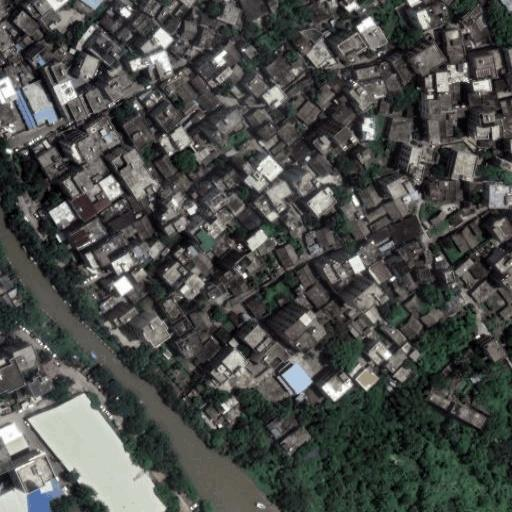building: (29, 393, 170, 512), (113, 147, 159, 199), (19, 470, 71, 512), (64, 157, 111, 199), (269, 304, 312, 346), (292, 329, 334, 372), (23, 80, 59, 129), (6, 445, 48, 486), (53, 79, 88, 124), (86, 116, 123, 154), (129, 50, 172, 81), (224, 129, 261, 164), (123, 113, 154, 151), (279, 362, 313, 396), (411, 43, 446, 75), (87, 33, 122, 65), (306, 186, 339, 219), (15, 362, 47, 396), (450, 401, 488, 429), (389, 215, 423, 246), (14, 88, 39, 129), (71, 135, 103, 167), (321, 369, 354, 400), (189, 220, 220, 253), (158, 126, 191, 157), (68, 192, 99, 225), (71, 219, 105, 249), (356, 16, 386, 49), (341, 275, 372, 306), (322, 260, 352, 292), (427, 72, 451, 112), (277, 115, 307, 146), (259, 342, 291, 371), (158, 193, 187, 225), (196, 44, 225, 76), (6, 342, 36, 372), (266, 410, 297, 439), (142, 318, 171, 348), (282, 72, 312, 101), (0, 352, 21, 393), (377, 61, 402, 95), (336, 33, 366, 61), (451, 151, 478, 182), (235, 204, 263, 233), (154, 155, 182, 184), (38, 149, 66, 178), (436, 109, 460, 142), (351, 361, 379, 389), (244, 324, 272, 352), (172, 245, 202, 271), (267, 181, 292, 212), (357, 241, 384, 269), (223, 348, 250, 376), (293, 170, 321, 197), (287, 137, 314, 165), (160, 71, 190, 96), (257, 156, 284, 183), (190, 134, 217, 161), (85, 246, 112, 273), (445, 30, 467, 63), (397, 238, 428, 261), (230, 284, 258, 309), (109, 63, 134, 91), (392, 54, 415, 84), (306, 42, 332, 68), (387, 175, 414, 200), (216, 109, 243, 134), (44, 60, 69, 87), (419, 6, 447, 30), (103, 199, 132, 222), (429, 180, 459, 202), (281, 428, 307, 453), (295, 263, 320, 289), (179, 333, 205, 358), (179, 273, 204, 299), (215, 169, 241, 194), (296, 101, 322, 126), (50, 201, 75, 227), (306, 0, 331, 26), (80, 89, 105, 115), (471, 277, 498, 301), (469, 240, 496, 264), (461, 223, 486, 248), (254, 197, 279, 222), (98, 176, 123, 201), (156, 106, 181, 131), (141, 85, 166, 110), (267, 56, 292, 81), (14, 11, 39, 36), (317, 301, 343, 325), (160, 296, 184, 322), (428, 389, 455, 412), (384, 198, 409, 222), (358, 185, 382, 210), (419, 307, 444, 331), (306, 282, 330, 307), (275, 243, 299, 268), (309, 153, 333, 178), (444, 62, 470, 85), (294, 444, 321, 466), (163, 262, 187, 286), (333, 104, 357, 128), (30, 47, 55, 70), (369, 225, 393, 248), (443, 293, 467, 316), (193, 254, 217, 277), (176, 81, 199, 105), (79, 55, 101, 80), (491, 217, 512, 243), (101, 233, 127, 254), (368, 341, 391, 364), (223, 194, 246, 217), (169, 172, 192, 195), (263, 85, 286, 108), (312, 134, 335, 157), (133, 216, 156, 239), (369, 262, 391, 286), (245, 170, 269, 192), (198, 89, 220, 113), (5, 63, 27, 87), (38, 358, 59, 383), (299, 28, 325, 48), (206, 190, 229, 212), (314, 88, 337, 110), (390, 118, 412, 141), (334, 128, 357, 150), (1, 45, 24, 67), (485, 338, 506, 362), (349, 88, 370, 112), (199, 339, 221, 361), (234, 368, 256, 390), (133, 14, 155, 36), (316, 226, 337, 249), (475, 56, 496, 79), (245, 229, 269, 249), (165, 216, 189, 236), (223, 120, 247, 140), (115, 307, 139, 327), (104, 78, 124, 102), (100, 14, 125, 33), (75, 24, 93, 50), (349, 220, 371, 241), (213, 239, 234, 261), (325, 74, 347, 95), (281, 210, 302, 232), (209, 67, 231, 88), (369, 213, 392, 233), (263, 267, 286, 287), (196, 25, 216, 48), (246, 251, 265, 275), (496, 250, 512, 278), (27, 0, 53, 17), (490, 186, 511, 207), (227, 275, 248, 296), (247, 296, 268, 317), (249, 77, 270, 98), (110, 275, 131, 296), (384, 351, 406, 371), (114, 214, 133, 237), (356, 0, 383, 16), (400, 144, 415, 172), (469, 260, 489, 281), (401, 317, 421, 338), (190, 75, 210, 96), (464, 4, 485, 24), (364, 81, 385, 101), (222, 5, 242, 26), (41, 10, 61, 31), (256, 238, 278, 257), (192, 180, 214, 199), (491, 48, 507, 74), (472, 398, 496, 415), (405, 295, 425, 315), (246, 109, 266, 129), (142, 34, 162, 54), (154, 27, 174, 47), (481, 92, 500, 113), (413, 141, 434, 160), (454, 258, 475, 277), (452, 233, 471, 254), (447, 82, 466, 103), (53, 48, 74, 67), (0, 103, 16, 127), (189, 311, 208, 331), (208, 217, 227, 237), (467, 23, 486, 43), (112, 255, 132, 274), (100, 296, 120, 315), (294, 34, 313, 54), (394, 364, 413, 383), (354, 312, 373, 331), (187, 389, 206, 408), (230, 82, 249, 101), (367, 206, 387, 224), (219, 395, 239, 413), (128, 283, 148, 301), (495, 77, 512, 98), (450, 208, 469, 226), (402, 343, 420, 362), (348, 255, 366, 274), (233, 255, 252, 273), (174, 318, 193, 336), (258, 124, 277, 142), (173, 39, 191, 58), (131, 196, 152, 212), (213, 365, 231, 383), (216, 207, 234, 225), (148, 241, 166, 259), (388, 329, 407, 346), (189, 265, 208, 282), (206, 284, 226, 300), (182, 20, 198, 40), (93, 196, 111, 213), (365, 306, 382, 324), (358, 66, 379, 80), (341, 200, 358, 217), (428, 121, 441, 143), (347, 321, 363, 338), (206, 405, 222, 422), (229, 65, 245, 82), (395, 260, 411, 276), (212, 130, 228, 146), (275, 152, 291, 168), (279, 69, 295, 85), (16, 35, 32, 51), (10, 385, 26, 401), (158, 184, 175, 199), (474, 79, 492, 93), (363, 118, 374, 140), (402, 189, 418, 204), (461, 199, 476, 215), (431, 209, 447, 224), (192, 352, 208, 367), (190, 111, 206, 126), (357, 149, 372, 165), (144, 0, 159, 16), (418, 267, 432, 284), (291, 295, 308, 309), (499, 286, 512, 304), (445, 271, 457, 290), (480, 112, 495, 127), (272, 140, 287, 155), (182, 100, 197, 115), (239, 56, 254, 71), (243, 44, 258, 59), (118, 28, 133, 43), (379, 238, 395, 252), (205, 251, 221, 265), (133, 243, 149, 257), (468, 92, 483, 106), (167, 17, 181, 32), (501, 99, 512, 118), (34, 140, 50, 153), (215, 415, 229, 429), (216, 328, 230, 342), (229, 312, 243, 326), (140, 296, 154, 310), (158, 7, 171, 22), (493, 158, 509, 170), (401, 272, 414, 286), (219, 271, 233, 284), (242, 162, 255, 176), (132, 268, 146, 281), (503, 119, 512, 139), (477, 140, 496, 149), (0, 0, 9, 19), (291, 57, 304, 70), (176, 5, 188, 19), (501, 305, 512, 320), (423, 249, 433, 265), (200, 17, 216, 27), (347, 308, 359, 321), (187, 204, 200, 216), (478, 14, 490, 27), (171, 291, 183, 304), (31, 28, 44, 40), (308, 242, 322, 253), (503, 276, 512, 293), (470, 182, 485, 192), (207, 323, 219, 335), (500, 0, 512, 12), (476, 128, 489, 139), (406, 281, 419, 292), (293, 395, 305, 406), (182, 121, 194, 132), (119, 7, 130, 19), (305, 233, 315, 246), (441, 366, 452, 377), (392, 105, 403, 116), (356, 207, 367, 218), (162, 349, 173, 360), (436, 257, 446, 269), (228, 338, 240, 348), (381, 101, 389, 115), (294, 286, 304, 297), (417, 75, 425, 88), (410, 161, 416, 178), (470, 374, 480, 384), (456, 107, 465, 118), (463, 40, 472, 51), (56, 233, 67, 242), (363, 328, 373, 337), (492, 127, 500, 138), (416, 260, 425, 269), (507, 139, 512, 152), (340, 95, 348, 103), (406, 111, 414, 118), (507, 154, 512, 165), (70, 48, 77, 55), (494, 151, 502, 156)
